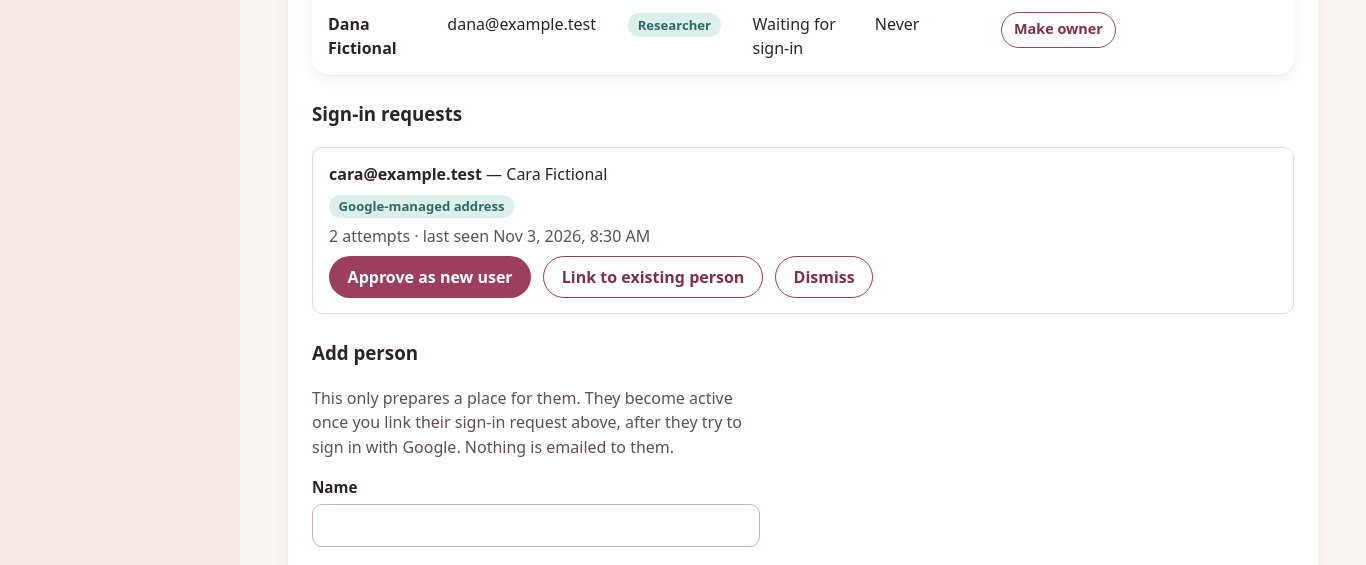
Test case: Users administration › explains full
(page scrolled)
Click the button with aria-label "Approve cara@example.test". click: (430, 277)
box: [329,256,531,298]
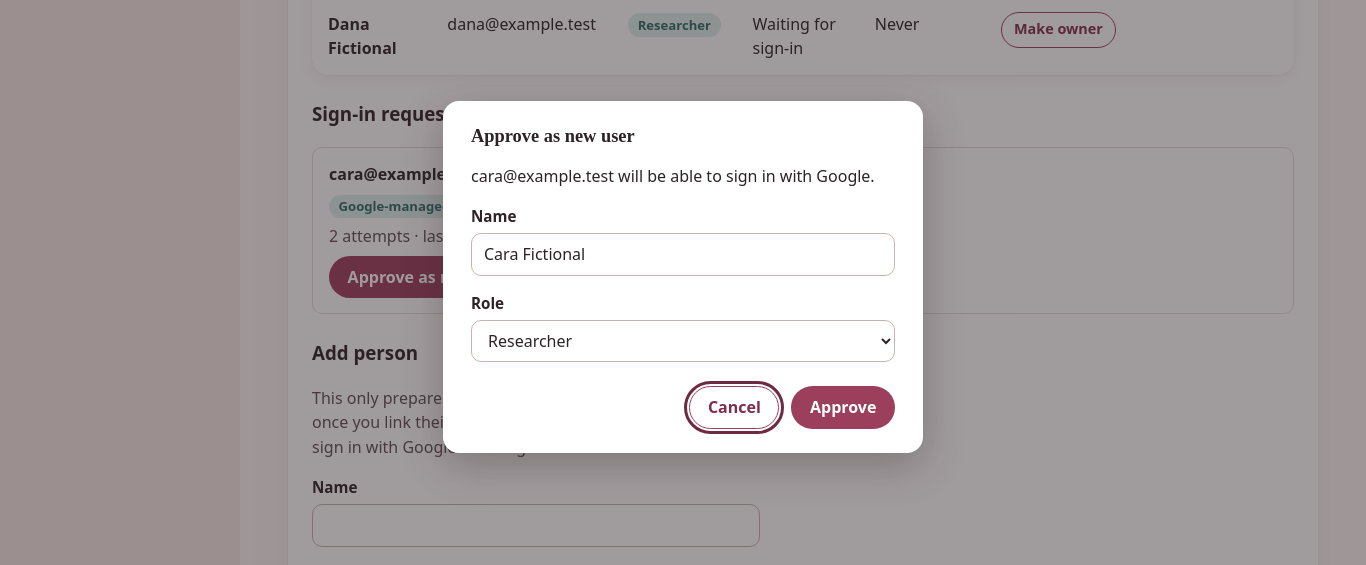
Click the button "Approve". click: (843, 408)
box: [791,386,895,429]
(page scrolled)
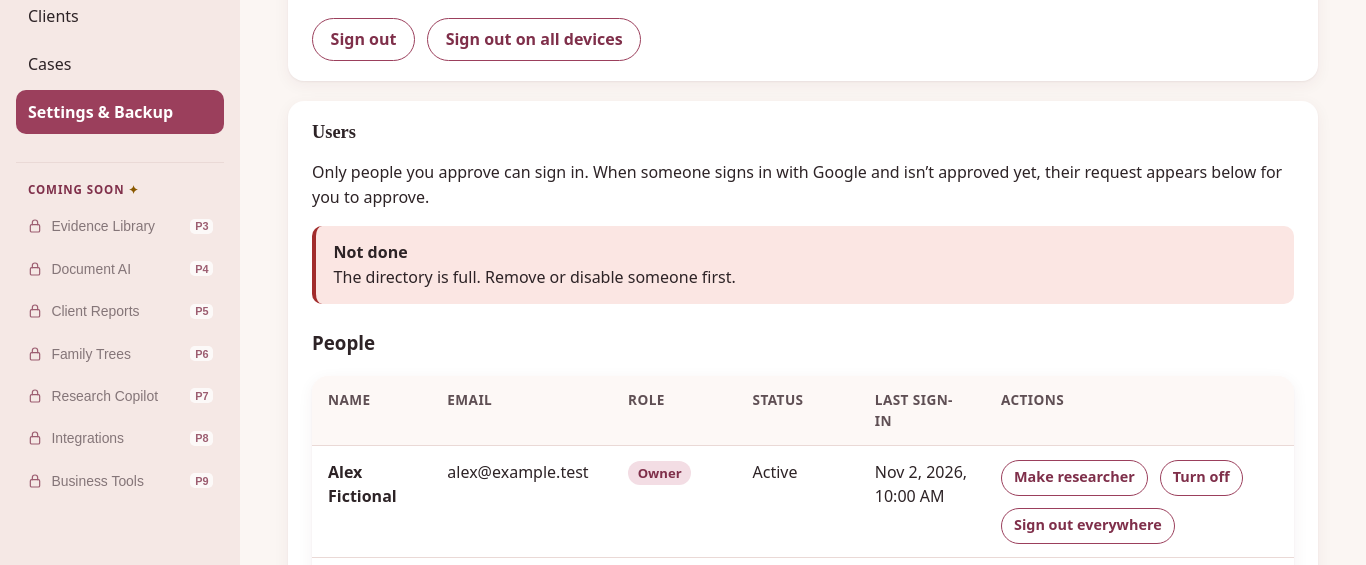
Now the text "The directory is full. Remove or disable someone first." is shown, box [334,266,736,288]
